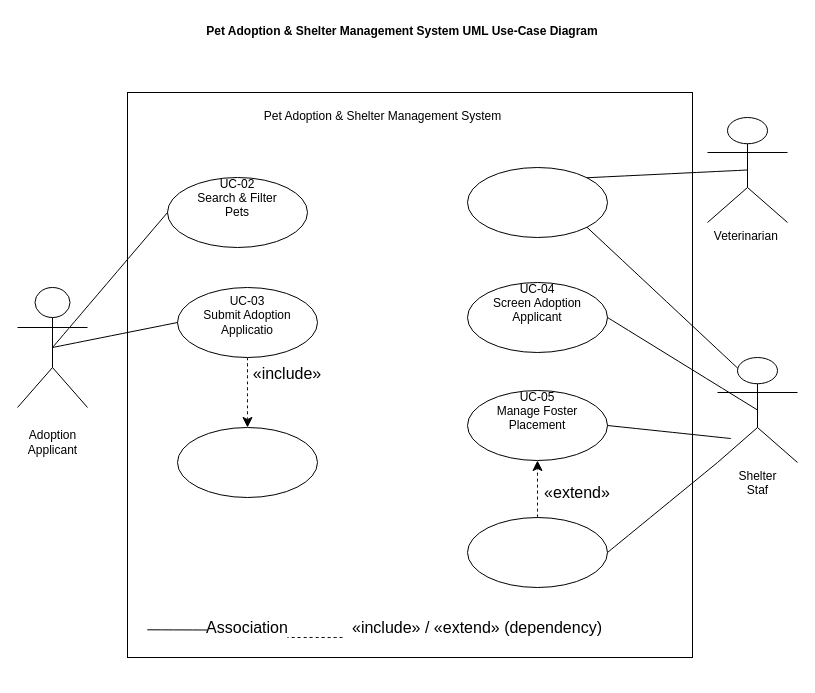
This 815x693 diagram has some shape labels left out. Each missing label, with the centre of its shape:
"UC-01 Manage Animal Medical & Vaccination Records" goes at pixel 537 202.
"UC-06 Complete Adopter Questionnaire" goes at pixel 247 462.
"UC-07 Extend Foster Placemen" goes at pixel 537 552.
